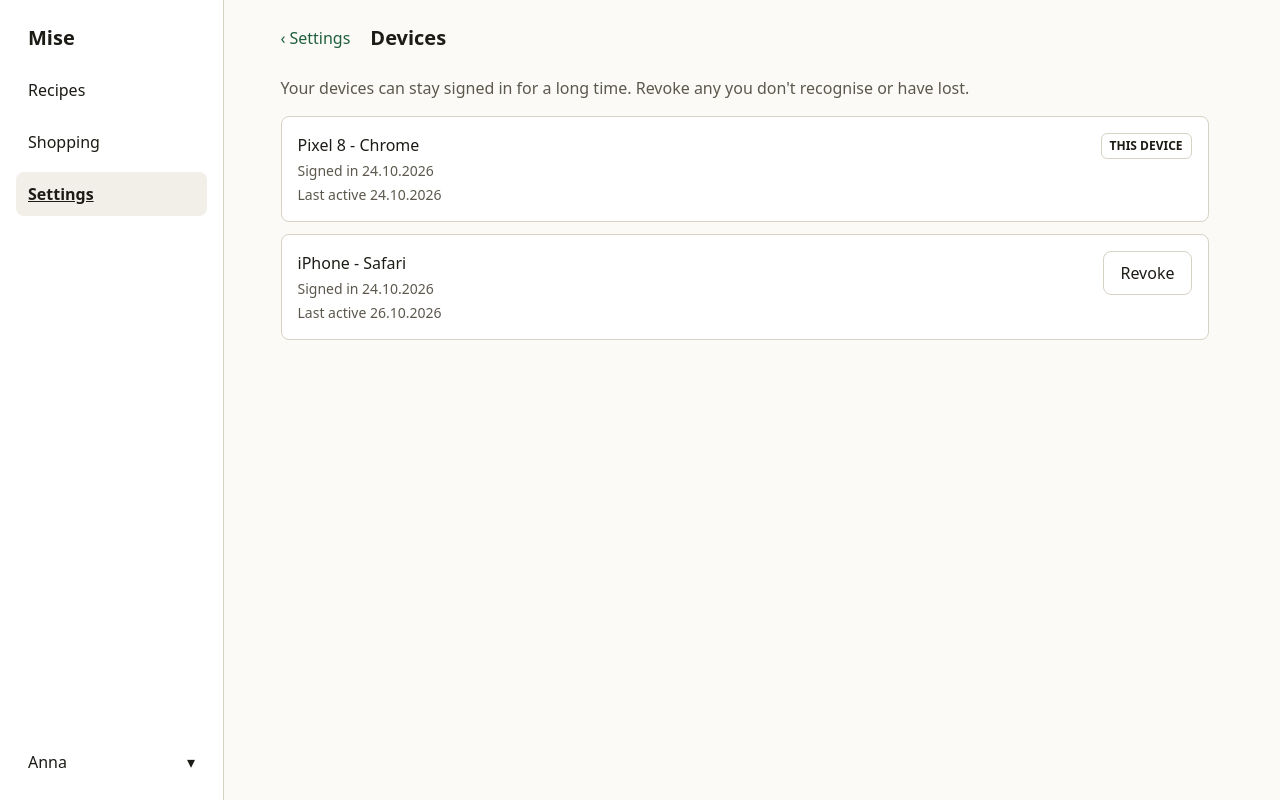
Test case: devices screen (FR-30, AC-11) › revoke flow: confirm dialog names the device, row disappears, toast confirms
Step 1. Click the button with test id "revoke-device" → (1148, 273), box x1=1104 y1=251 x2=1192 y2=295
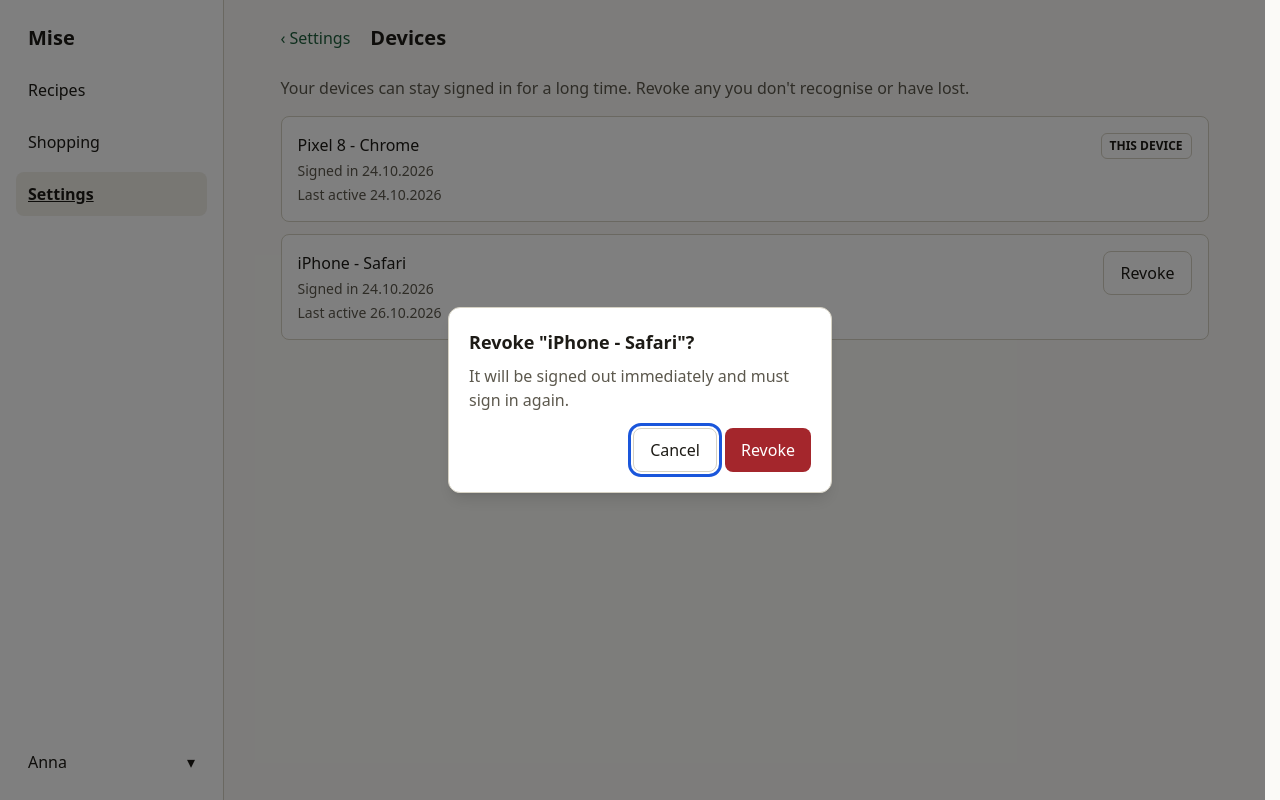
Expected: the text "It will be signed out immediately and must sign in again." is shown, x1=469 y1=364 x2=811 y2=412
Step 2. Click the button "Revoke" → (768, 450), box x1=725 y1=428 x2=811 y2=472
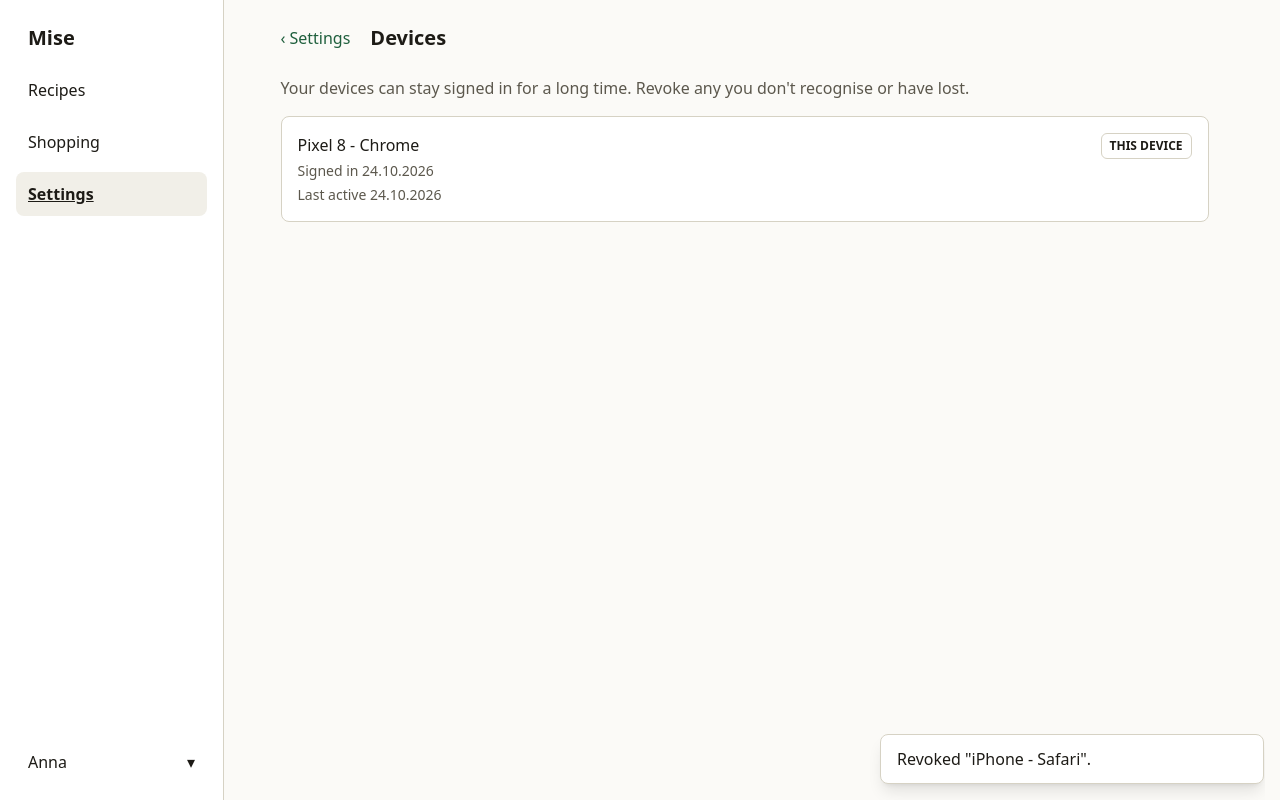
Expected: the number of list items with test id "device-row" is 1, x1=280 y1=116 x2=1208 y2=222
Expected: the list item with test id "toast" reads "Revoked \"iPhone - Safari\".", x1=897 y1=748 x2=1091 y2=770
Expected: the dialog is gone
